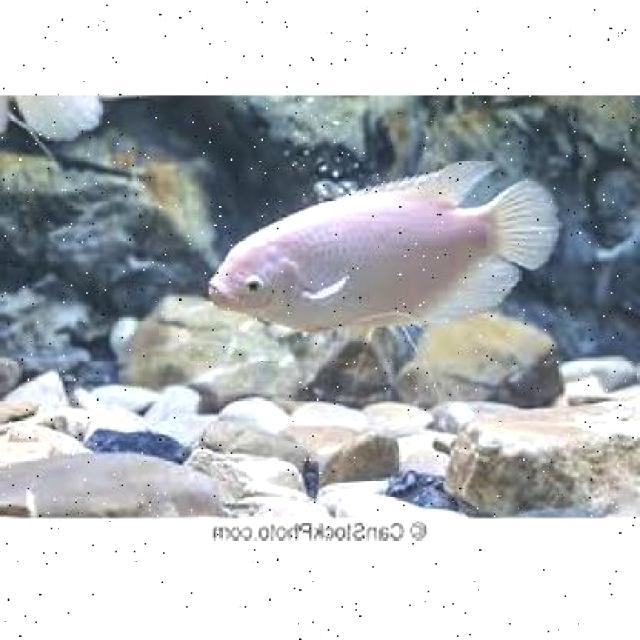gurame: (203, 163, 563, 332)
